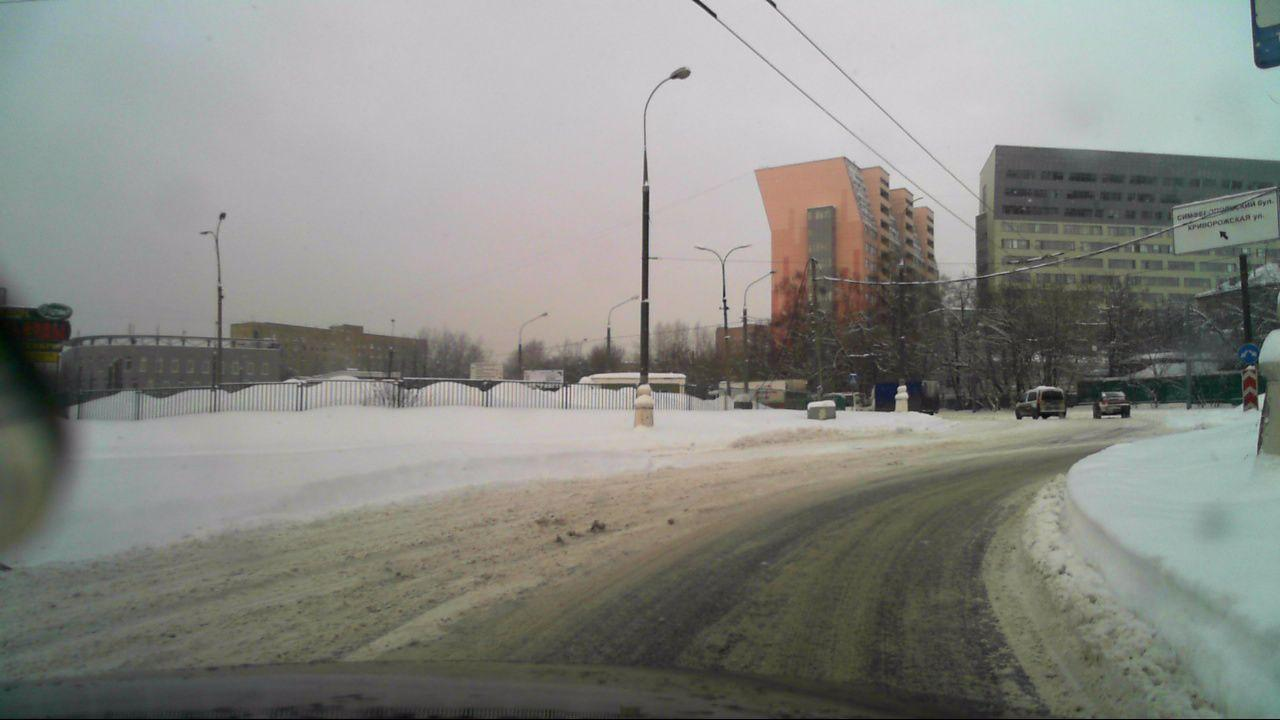4_2_3: (1237, 343, 1257, 366)
8_22_3: (1241, 369, 1259, 412)
